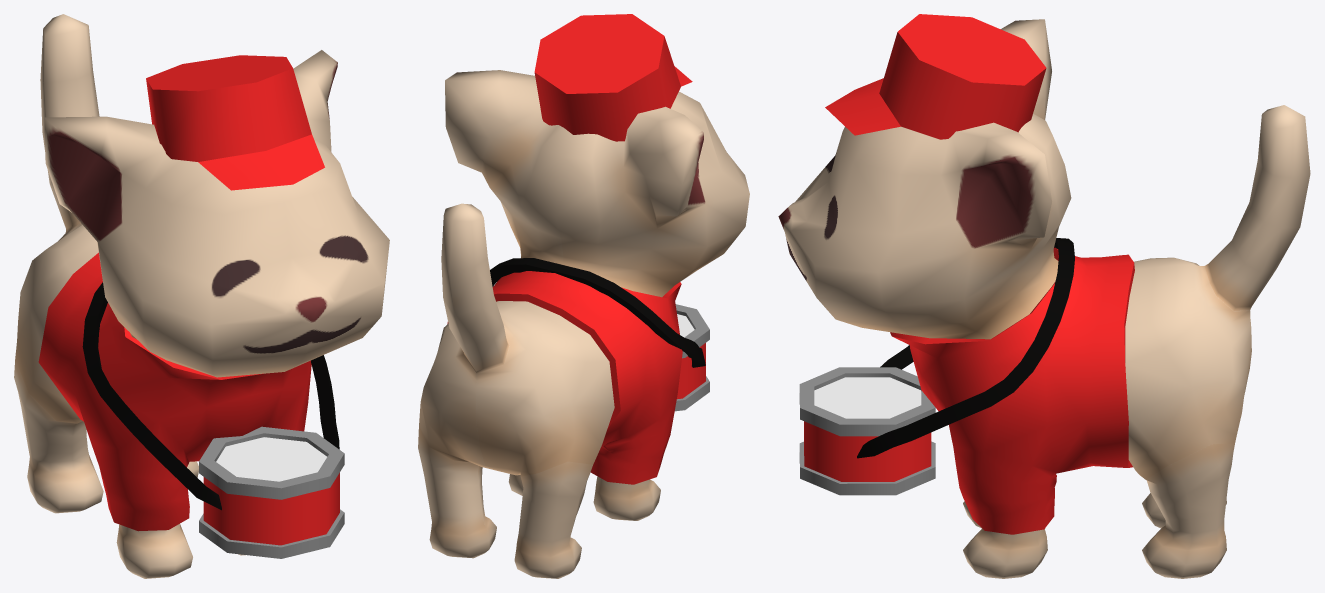
The model's file is Band Cat01.fbx.
3 views of the same model, side by side, from view 1: azimuth 30°, elevation 25°; view 2: azimuth 150°, elevation 25°; view 3: azimuth 270°, elevation 25° (orthographic). The views are drawn at different scales.
Visible parts, largest first — view 1: Cat_Base003, Band_Cat_Uniform, Band_Cat_Drums, Band_Cat_Hat; view 2: Cat_Base003, Band_Cat_Uniform, Band_Cat_Hat, Band_Cat_Drums; view 3: Cat_Base003, Band_Cat_Uniform, Band_Cat_Drums, Band_Cat_Hat.
Part boxes in pixels (x1=…): Cat_Base003: x1=14, y1=14, x2=389, y2=578; Band_Cat_Uniform: x1=38, y1=252, x2=311, y2=531; Band_Cat_Drums: x1=82, y1=282, x2=344, y2=558; Band_Cat_Hat: x1=146, y1=55, x2=324, y2=190; Cat_Base003: x1=418, y1=70, x2=749, y2=578; Band_Cat_Uniform: x1=447, y1=271, x2=682, y2=484; Band_Cat_Hat: x1=534, y1=14, x2=692, y2=141; Band_Cat_Drums: x1=490, y1=258, x2=709, y2=411; Cat_Base003: x1=778, y1=19, x2=1310, y2=578; Band_Cat_Uniform: x1=890, y1=247, x2=1134, y2=534; Band_Cat_Drums: x1=799, y1=238, x2=1074, y2=495; Band_Cat_Hat: x1=825, y1=14, x2=1046, y2=139.
Bounding box in the file's own units: 1.75 × 2.83 × 3.01.
5 materials, 1 textured.
